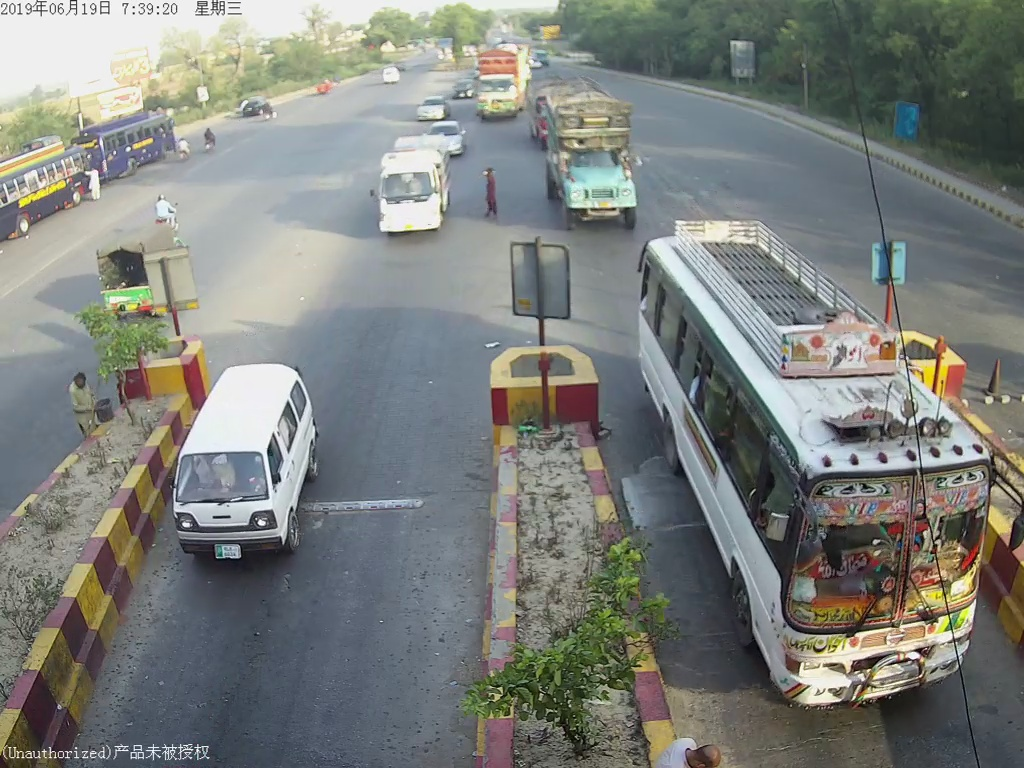Cat-1: (164, 348, 323, 556)
Cat-2: (373, 126, 446, 232)
Cat-4: (545, 80, 647, 231), (471, 39, 531, 124)
